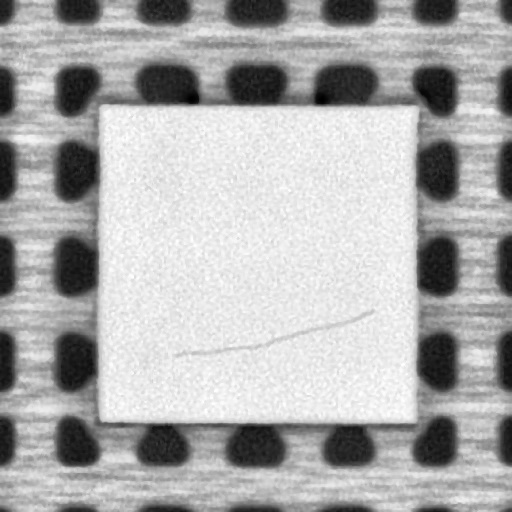DIE_CRACK: (174, 307, 376, 355)
